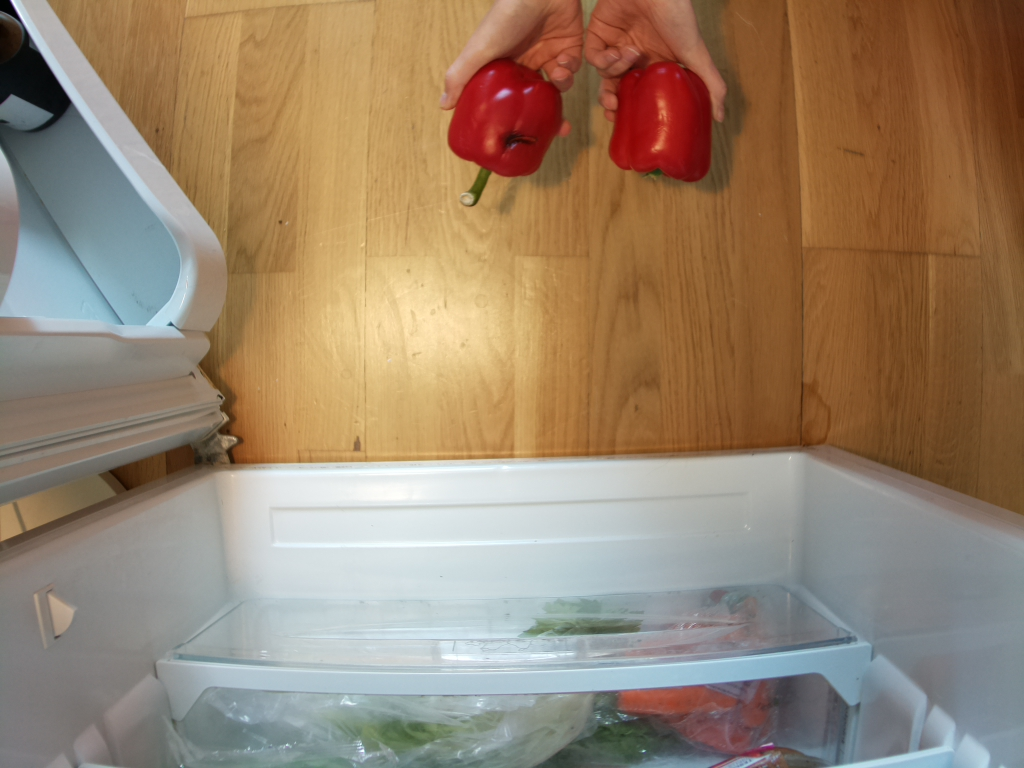pepper: (608, 61, 710, 187)
pepper-bad: (446, 61, 565, 206)
